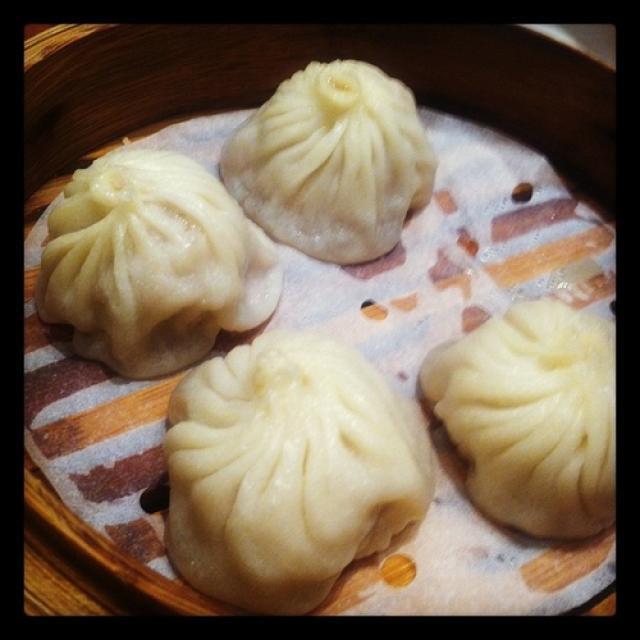带馅早点: (39, 53, 606, 604)
